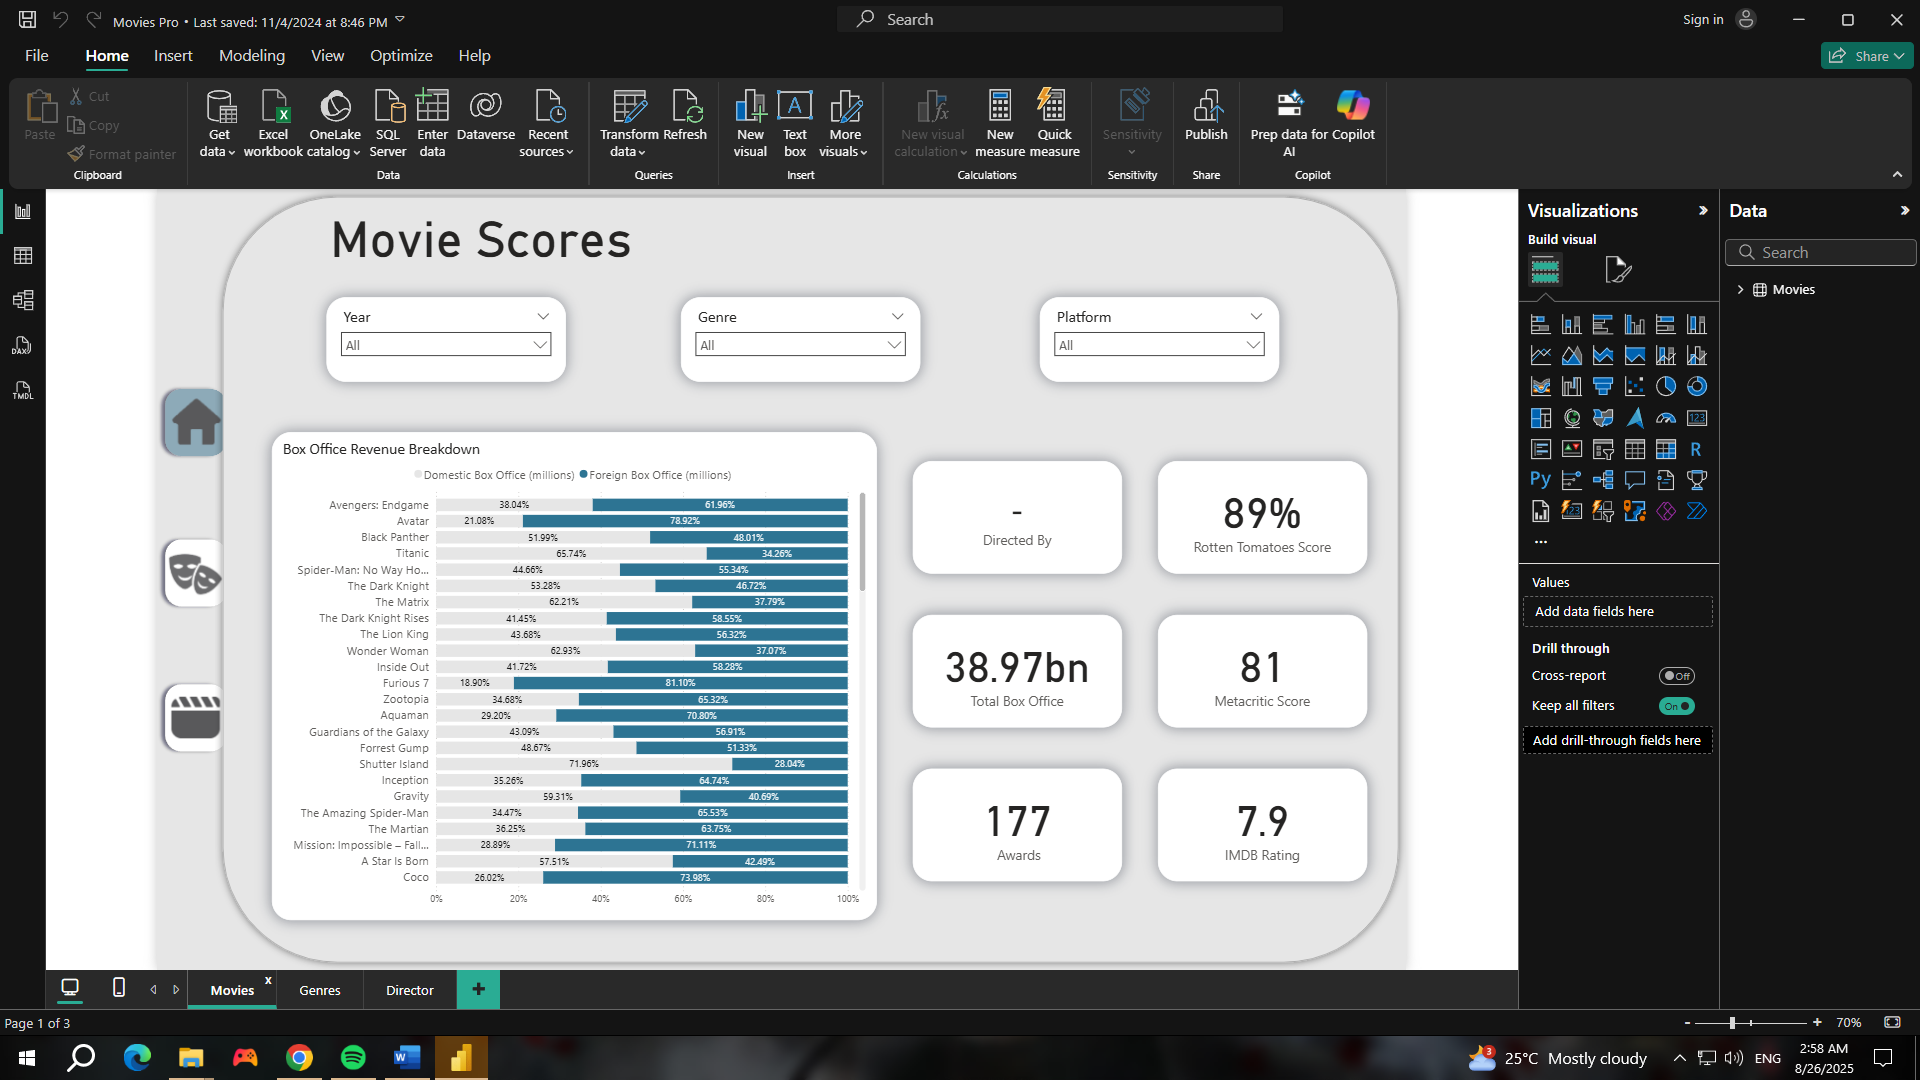

The dashboard page shown, as its layout file describes it:
{"tool":"powerbi","page":{"name":"Movies","canvas":[1600,1000],"ordinal":0},"visuals":[{"type":"actionButton","box":[0.8,625.3,97.1,104.2],"z":1500},{"type":"actionButton","box":[0.8,439.7,97.1,104.2],"z":1750},{"type":"actionButton","box":[0.8,247,97.1,104.2],"z":1875},{"type":"shape","box":[74.2,0,1526.1,1000.7],"z":2000},{"type":"slicer","fields":{"Values":["Movies.Release Year"]},"box":[217,138.9,306.9,108.5],"z":3000},{"type":"slicer","fields":{"Values":["Movies.Genres"]},"box":[670.9,138.9,306.9,108.5],"z":4000},{"type":"slicer","fields":{"Values":["Movies.Streaming Platform"]},"box":[1130.6,138.9,306.9,108.5],"z":5000},{"type":"hundredPercentStackedBarChart","title":"Box Office Revenue Breakdown","fields":{"Category":["Movies.Movie Title"],"Y":["Sum(Movies.Domestic Box Office (millions))","Sum(Movies.Foreign Box Office (millions))"]},"box":[147,311.2,775.2,625.3],"z":6000},{"type":"card","title":"Total Box Office","fields":{"Values":["Sum(Movies.Total Box Office)"]},"box":[967.9,546,268.4,144.2],"z":7000},{"type":"card","title":"Total Box Office","fields":{"Values":["Sum(Movies.Awards Won)"]},"box":[967.9,743,268.4,144.2],"z":8000},{"type":"card","title":"Total Box Office","fields":{"Values":["Avg(Movies.IMDB Rating)"]},"box":[1281.9,743,268.4,144.2],"z":9000},{"type":"card","title":"Total Box Office","fields":{"Values":["Avg(Movies.Metacritic Rating)"]},"box":[1281.9,546,268.4,144.2],"z":10000},{"type":"card","title":"Total Box Office","fields":{"Values":["Avg(Movies.Audience Score)"]},"box":[1281.9,349,268.4,144.2],"z":11000},{"type":"card","title":"Total Box Office","fields":{"Values":["Movies.Measure"]},"box":[967.9,349,268.4,144.2],"z":12000},{"type":"textbox","box":[217,21.4,432.5,101.4],"z":13000}]}

Visuals, with their boxes on the page's 1600x1000 design canvas (x1, y1, x2, y2). These are canvas units, not pixel positions in the 1920x1080 screenshot, which may show the page scaled, cropped or inside an application window:
actionButton: x1=1, y1=625, x2=98, y2=730
actionButton: x1=1, y1=440, x2=98, y2=544
actionButton: x1=1, y1=247, x2=98, y2=351
shape: x1=74, y1=0, x2=1600, y2=1001
slicer - Movies.Release Year: x1=217, y1=139, x2=524, y2=247
slicer - Movies.Genres: x1=671, y1=139, x2=978, y2=247
slicer - Movies.Streaming Platform: x1=1131, y1=139, x2=1438, y2=247
"Box Office Revenue Breakdown" hundredPercentStackedBarChart: x1=147, y1=311, x2=922, y2=936
"Total Box Office" card: x1=968, y1=546, x2=1236, y2=690
"Total Box Office" card: x1=968, y1=743, x2=1236, y2=887
"Total Box Office" card: x1=1282, y1=743, x2=1550, y2=887
"Total Box Office" card: x1=1282, y1=546, x2=1550, y2=690
"Total Box Office" card: x1=1282, y1=349, x2=1550, y2=493
"Total Box Office" card: x1=968, y1=349, x2=1236, y2=493
textbox: x1=217, y1=21, x2=650, y2=123
